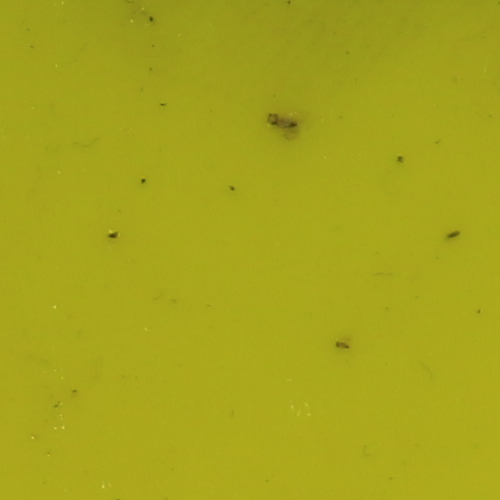psylla: (258, 106, 305, 137)
